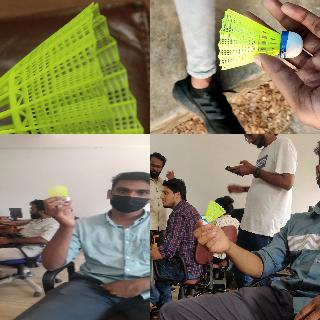shuttlecock: (0, 0, 148, 133), (218, 8, 302, 70), (200, 200, 226, 224), (47, 186, 69, 201)
